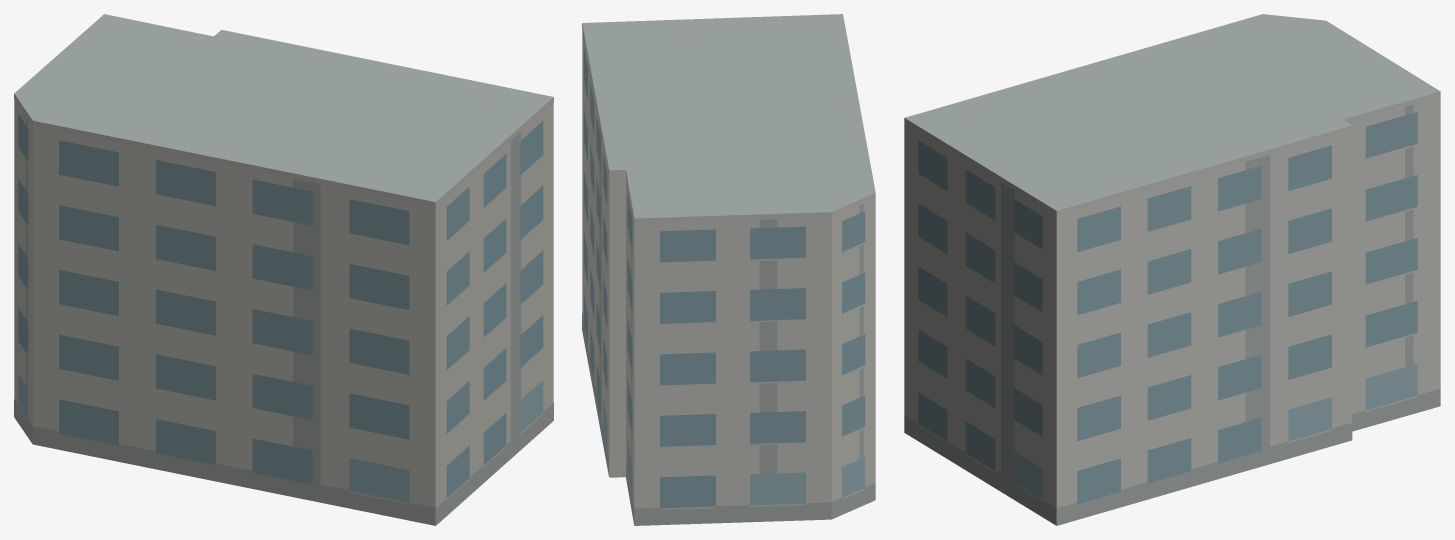
Rendered from survey-upis-32889553.glb.
3 renders of one model, left to right at view 1: azimuth 30°, elevation 25°; view 2: azimuth 150°, elevation 25°; view 3: azimuth 270°, elevation 25°, orthographic. The views are drawn at different scales.
Parts seen in each view (by area): view 1: survey-upis-32889553.tmp; view 2: survey-upis-32889553.tmp; view 3: survey-upis-32889553.tmp.
Part boxes in pixels (x1,y1,x2,y2): survey-upis-32889553.tmp: (14,14,553,525); survey-upis-32889553.tmp: (582,14,875,525); survey-upis-32889553.tmp: (904,14,1440,525).
Size of the model in its own units: 19.06 by 14.2 by 21.92.
